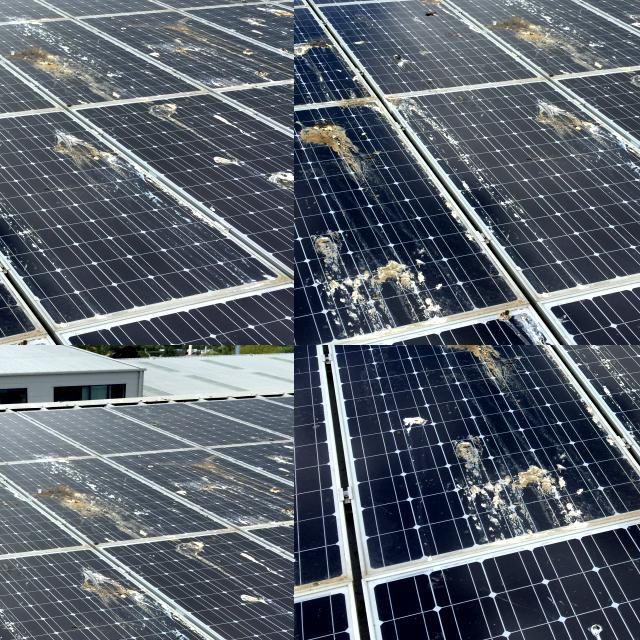bird: (446, 449, 614, 538), (429, 345, 524, 400), (317, 345, 400, 396), (421, 345, 479, 382), (393, 414, 449, 434)
crack: (0, 0, 58, 89)
dust: (0, 373, 30, 412), (0, 380, 21, 416), (0, 377, 24, 406)
shadow: (294, 0, 308, 8)
